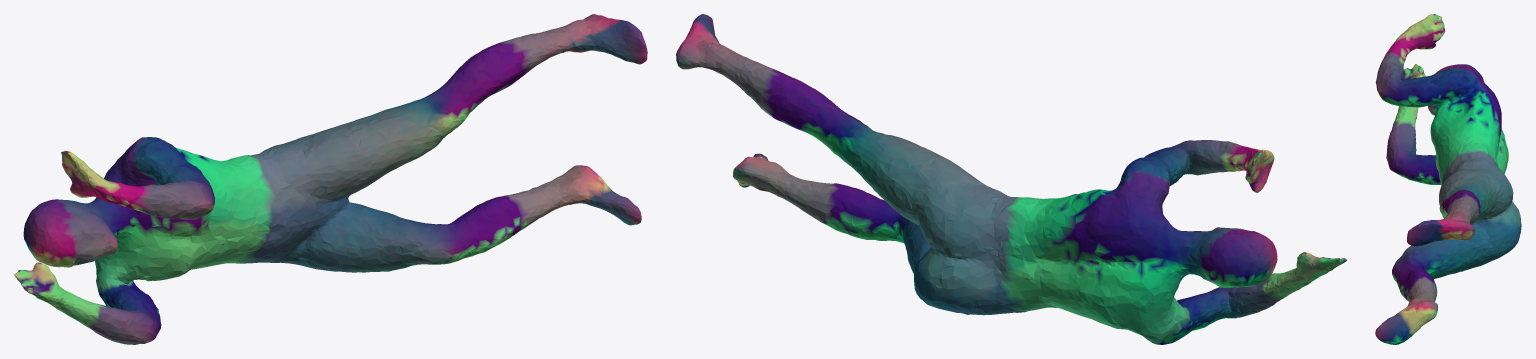
File: man-17.off.obj
The picture shows the model from 3 angles, left to right: view 1: azimuth 30°, elevation 25°; view 2: azimuth 150°, elevation 25°; view 3: azimuth 270°, elevation 25°; orthographic projection. The views are drawn at different scales.
Size of the model in its own units: 1.6 by 0.4856 by 0.4311.
